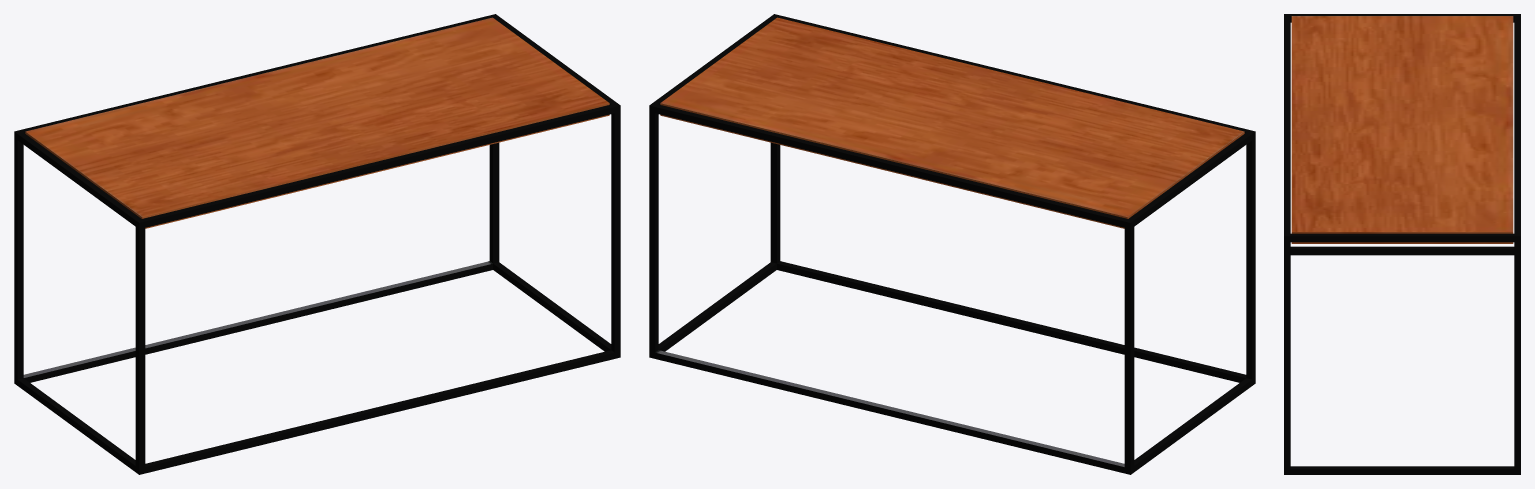
The model's file is ts-shelf-retail.glb.
3 renders of one model, left to right at view 1: azimuth 30°, elevation 25°; view 2: azimuth 150°, elevation 25°; view 3: azimuth 270°, elevation 25°, orthographic. The views are drawn at different scales.
Visible parts, largest first — view 1: Shelf_03_a; view 2: Shelf_03_a; view 3: Shelf_03_a.
Boxes of the visible parts, x1,y1,x2,y2 form: Shelf_03_a: [14, 14, 620, 474]; Shelf_03_a: [649, 14, 1255, 474]; Shelf_03_a: [1284, 14, 1520, 474].
Size of the model in its own units: 2 by 1 by 0.9.
Materials: 1 (1 with a texture image).
